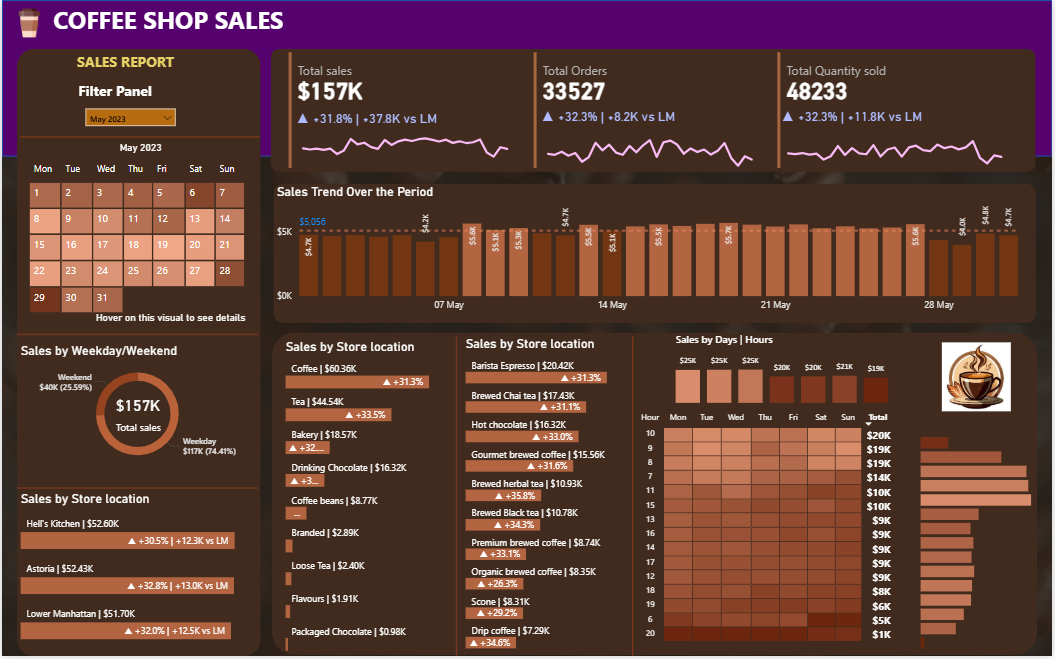

Layout of this report page (visuals, bound fields, positions):
{"tool":"powerbi","page":{"name":"Page 1","canvas":[1400,875],"ordinal":0},"visuals":[{"type":"shape","box":[0,0,1400.3,208.6],"z":0},{"type":"shape","box":[20,65,325,810],"z":1000},{"type":"shape","box":[358.6,64.3,1020,164.3],"z":2000},{"type":"textbox","box":[64.1,0,326.2,54.1],"z":3000},{"type":"cardVisual","fields":{"Data":["Date table.Total sales"]},"box":[372.9,65.7,315.3,164.3],"z":4000,"group":"g1"},{"type":"cardVisual","fields":{"Data":["Transactions.Total Orders"]},"box":[700,64.3,314.3,164.3],"z":4000},{"type":"slicer","fields":{"Values":["Date table.Month year"]},"box":[107.1,140,130,37.1],"z":5000},{"type":"lineChart","fields":{"Y":["Date table.Total sales"],"Category":["Date table.Date Hierarchy.Date"]},"box":[386.5,147.8,302.1,82.1],"z":5001,"group":"g1"},{"type":"lineChart","fields":{"Category":["Date table.Date Hierarchy.Date"],"Y":["Transactions.Total Orders"]},"box":[712.9,145.7,301.4,82.9],"z":6000},{"type":"group","id":"g1","title":"Group 1","box":[372.9,65.7,315.7,164.3],"z":7000},{"type":"cardVisual","fields":{"Data":["Transactions.Total Quantity sold"]},"box":[1025.7,65.7,321.4,164.3],"z":8000},{"type":"lineChart","fields":{"Category":["Date table.Date Hierarchy.Date"],"Y":["Transactions.Total Quantity sold"]},"box":[1032.9,145.7,314.3,82.9],"z":9000},{"type":"pivotTable","fields":{"Rows":["Date table.Week Number"],"Columns":["Date table.Day Name"],"Values":["Min(Date table.Day Number)"]},"box":[28.3,208.3,316.7,213.3],"z":10000},{"type":"card","fields":{"Values":["Min(Date table.Month year)"]},"box":[135,183.3,100,30],"z":11000},{"type":"card","fields":{"Values":["Transactions.Foot note"]},"box":[116.7,410,216.7,30],"z":12000},{"type":"shape","box":[20,440,321.7,11.7],"z":13000},{"type":"shape","box":[23.3,176.7,320,11.7],"z":14000},{"type":"donutChart","title":"Sales by Weekday/Weekend","fields":{"Category":["Date table.Weekday or Weekend"],"Y":["Date table.Total sales"]},"box":[20,457.1,321.4,171.4],"z":15000},{"type":"cardVisual","fields":{"Data":["Date table.Total sales"]},"box":[135.7,508.6,100,91.4],"z":16000},{"type":"clusteredBarChart","title":"Sales by Store location","fields":{"Category":["Transactions.store_location"],"Y":["Transactions.Placeholder","Date table.Total sales"]},"box":[20,655.7,324.3,205.7],"z":17000},{"type":"shape","box":[20,644.3,321.4,11.4],"z":18000},{"type":"shape","box":[361.4,245.7,1017.1,185.7],"z":19000},{"type":"columnChart","title":"Sales Trend Over the Period","fields":{"Category":["Transactions.transaction_date"],"Y":["Date table.Total sales"]},"box":[361.4,245.7,1007.1,180],"z":20000},{"type":"shape","box":[360,442.9,1020,430],"z":21000},{"type":"clusteredBarChart","title":"Sales by Store location","fields":{"Y":["Transactions.Placeholder","Date table.Total sales"],"Category":["Transactions.product_category"]},"box":[373,451,233,422],"z":22000},{"type":"clusteredBarChart","title":"Sales by Store location","fields":{"Y":["Transactions.Placeholder","Date table.Total sales"],"Category":["Transactions.product_type"]},"box":[614,448,233,422],"z":23000},{"type":"shape","box":[600,448,12,427],"z":24000},{"type":"shape","box":[835,448,12,427],"z":25000},{"type":"pivotTable","fields":{"Rows":["Transactions.Hour"],"Columns":["Date table.Day Name"],"Values":["Date table.Total sales"]},"box":[841.4,542.9,362.9,332.9],"z":26000},{"type":"barChart","fields":{"Category":["Transactions.Hour"],"Y":["Date table.Total sales"]},"box":[1220,570,160,300],"z":27000},{"type":"columnChart","title":"Sales by Days | Hours","fields":{"Y":["Date table.Total sales"],"Category":["Date table.Day Name"]},"box":[892.9,442.9,294.3,100],"z":28000},{"type":"textbox","box":[95.7,65.7,151.4,38.6],"z":29000},{"type":"textbox","box":[96,104,119,36],"z":30000},{"type":"image","box":[8,6,56,48],"z":30001},{"type":"image","box":[1248.6,451.4,101.4,101.4],"z":30002}]}

Visuals, with their boxes in screenshot pixels (x1, y1, x2, y2), scaled from the page's 1400x875 canvas onto the 1055x659 screenshot:
shape: 0/0/1054/157
shape: 15/49/260/658
shape: 270/48/1039/172
textbox: 48/0/294/41
cardVisual - Date table.Total sales: 281/49/519/173
cardVisual - Transactions.Total Orders: 528/48/764/172
slicer - Date table.Month year: 81/105/179/133
lineChart - Date table.Total sales x Date table.Date Hierarchy.Date: 291/111/519/173
lineChart - Date table.Date Hierarchy.Date x Transactions.Total Orders: 537/110/764/172
"Group 1" group: 281/49/519/173
cardVisual - Transactions.Total Quantity sold: 773/49/1015/173
lineChart - Date table.Date Hierarchy.Date x Transactions.Total Quantity sold: 778/110/1015/172
pivotTable - Date table.Week Number x Date table.Day Name: 21/157/260/318
card - Min(Date table.Month year): 102/138/177/161
card - Transactions.Foot note: 88/309/251/331
shape: 15/331/257/340
shape: 18/133/259/142
"Sales by Weekday/Weekend" donutChart: 15/344/257/473
cardVisual - Date table.Total sales: 102/383/178/452
"Sales by Store location" clusteredBarChart: 15/494/259/649
shape: 15/485/257/494
shape: 272/185/1039/325
"Sales Trend Over the Period" columnChart: 272/185/1031/321
shape: 271/334/1040/657
"Sales by Store location" clusteredBarChart: 281/340/457/657
"Sales by Store location" clusteredBarChart: 463/337/638/655
shape: 452/337/461/658
shape: 629/337/638/658
pivotTable - Transactions.Hour x Date table.Day Name: 634/409/908/658
barChart - Transactions.Hour x Date table.Total sales: 919/429/1040/655
"Sales by Days | Hours" columnChart: 673/334/895/409
textbox: 72/49/186/79
textbox: 72/78/162/105
image: 6/5/48/41
image: 941/340/1017/416
